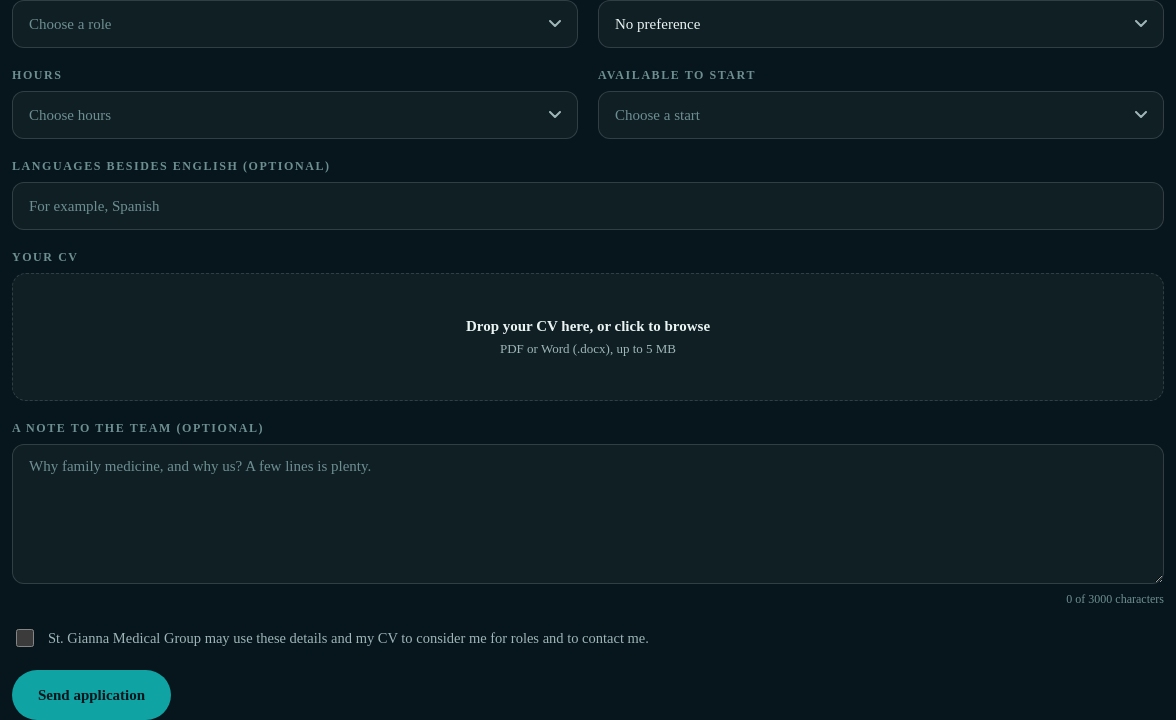
Test: CareersForm › reports every required field on an empty submit and sends nothing
(page scrolled)
Click the button "Send application" at coordinates (92, 695), box [12, 670, 171, 719]
(page scrolled)
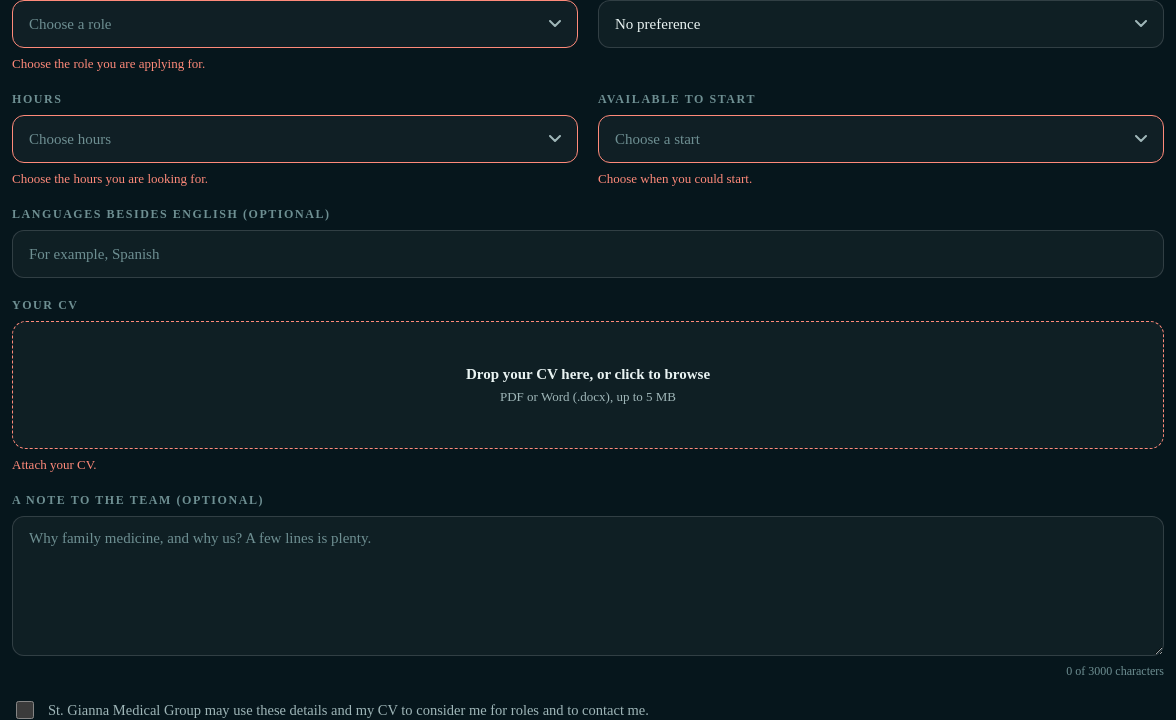
Check: the text "Choose the role you are applying for." is shown, box [12, 56, 205, 71]
Check: the text "Attach your CV." is shown, box [12, 457, 97, 472]
